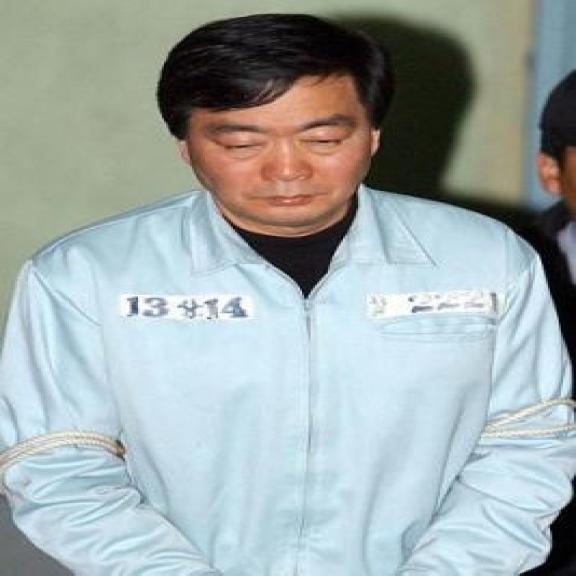face: (170, 75, 387, 228)
